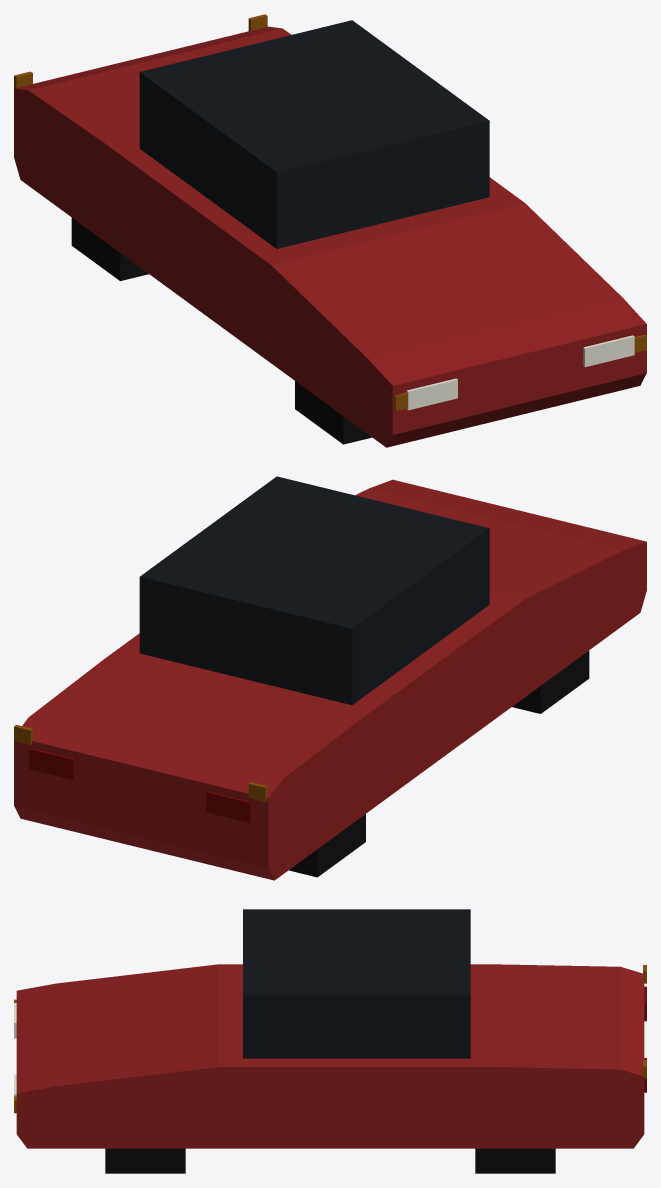
The picture shows the model from 3 angles, top to bottom: view 1: azimuth 30°, elevation 25°; view 2: azimuth 150°, elevation 25°; view 3: azimuth 270°, elevation 25°; orthographic projection. The views are drawn at different scales.
Visible parts, largest first — view 1: shell, cabin, wheels, headlight_L, headlight_R; view 2: shell, cabin, wheels, taillight_L, taillight_R; view 3: shell, cabin, wheels.
Boxes of the visible parts, bbox=[...] form: shell: bbox=[14, 26, 646, 447]; cabin: bbox=[139, 20, 489, 248]; wheels: bbox=[71, 217, 371, 444]; headlight_L: bbox=[583, 335, 634, 367]; headlight_R: bbox=[406, 378, 457, 410]; shell: bbox=[14, 479, 646, 880]; cabin: bbox=[139, 476, 489, 704]; wheels: bbox=[289, 650, 589, 877]; taillight_L: bbox=[29, 748, 74, 779]; taillight_R: bbox=[206, 791, 251, 822]; shell: bbox=[16, 964, 644, 1148]; cabin: bbox=[243, 909, 470, 1058]; wheels: bbox=[105, 1148, 555, 1173].
Bounding box in the file's own units: 1.84 × 1.43 × 4.79.
